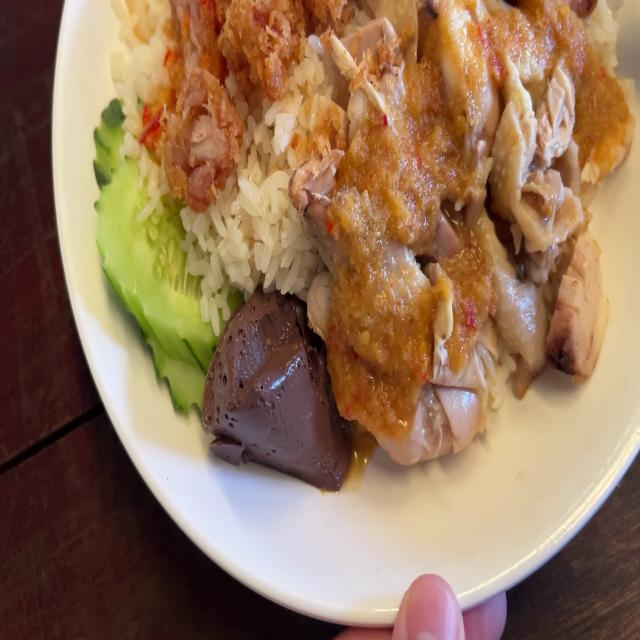boiled_chicken: (308, 0, 602, 424)
boiled_chicken_blood_jelly: (209, 291, 349, 487)
chicken_rice: (92, 0, 634, 497)
cucumber: (91, 96, 230, 412)
fried_chicken: (156, 0, 312, 205)
